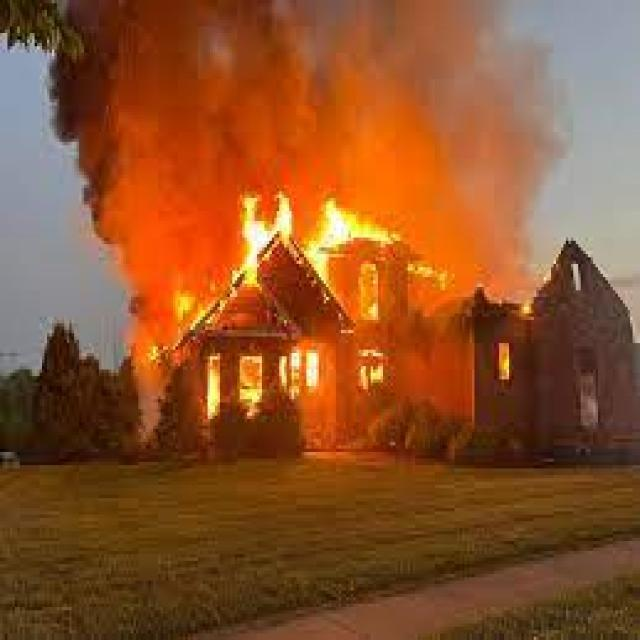Fire: (228, 190, 431, 392)
Smoke: (68, 0, 565, 288)
